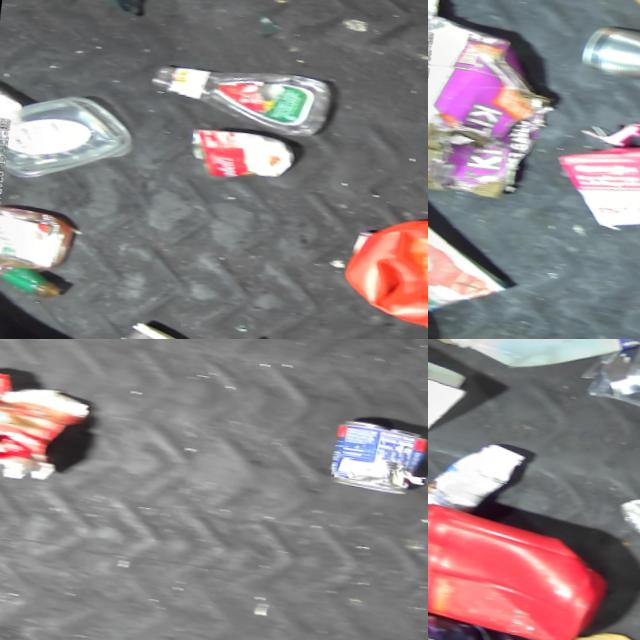can: (314, 413, 428, 501), (176, 123, 297, 185), (572, 18, 640, 90)
milk_jug: (436, 339, 640, 396)
non_white_jug: (428, 498, 612, 640), (328, 197, 428, 339)
plastic_bottle: (137, 48, 341, 147)
